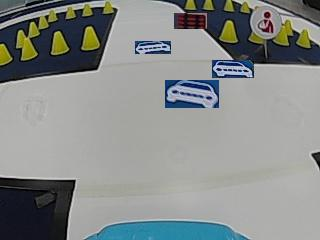cone: (50, 31, 69, 55), (219, 20, 238, 43), (81, 26, 99, 50), (21, 38, 37, 60), (274, 24, 289, 46), (297, 28, 311, 48), (0, 41, 12, 64), (28, 21, 40, 36), (101, 1, 114, 14), (81, 3, 93, 16), (65, 6, 76, 19), (184, 0, 196, 11), (38, 15, 48, 28), (202, 0, 214, 10), (48, 9, 58, 21), (240, 1, 250, 13), (224, 0, 234, 11)
patient: (250, 5, 280, 38)
